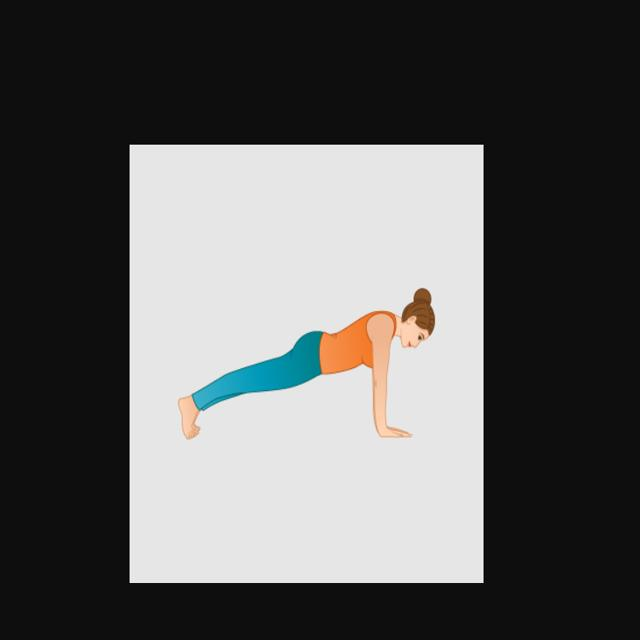Plank_Pose: (175, 288, 444, 443)
